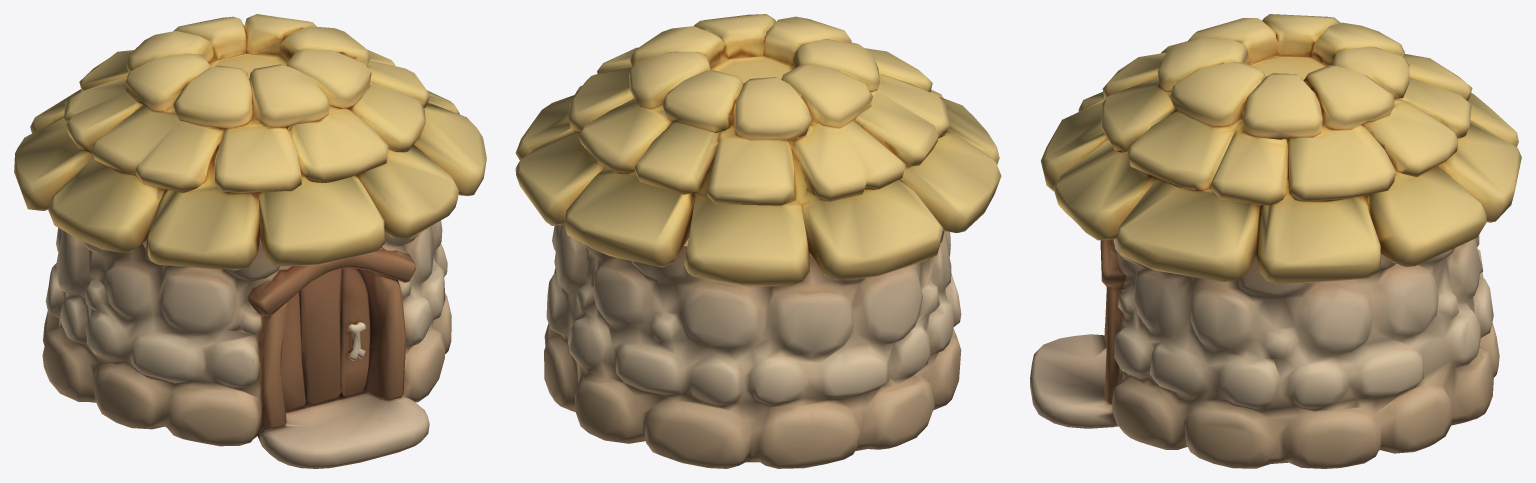
File: yellow-boulder-hut.glb
3 renders of one model, left to right at view 1: azimuth 30°, elevation 25°; view 2: azimuth 150°, elevation 25°; view 3: azimuth 270°, elevation 25°, orthographic. The views are drawn at different scales.
Visible parts, largest first — view 1: Yellow Boulder Hut; view 2: Yellow Boulder Hut; view 3: Yellow Boulder Hut.
Part boxes in pixels (left/top/right/bottom): Yellow Boulder Hut: left=14, top=14, right=486, bottom=468; Yellow Boulder Hut: left=515, top=14, right=1001, bottom=468; Yellow Boulder Hut: left=1030, top=14, right=1521, bottom=468.
Size of the model in its own units: 0.998 by 0.7637 by 0.9941.
Materials: 1 (1 with a texture image).
